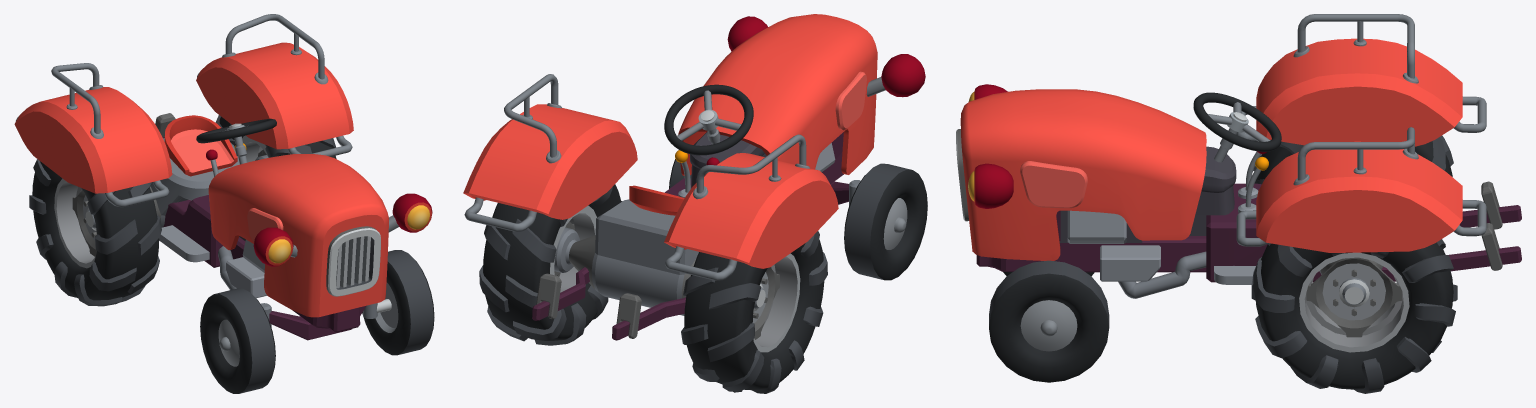
Rendered from Tractor_0_color_2.fbx.
The picture shows the model from 3 angles, left to right: view 1: azimuth 30°, elevation 25°; view 2: azimuth 150°, elevation 25°; view 3: azimuth 270°, elevation 25°; orthographic projection. The views are drawn at different scales.
Visible parts, largest first — view 1: Tractor_0_mesh, Tractor_0_Wheel_BR_mesh, Tractor_0_Wheel_FR_mesh, Tractor_0_Wheel_FL_mesh, Tractor_0_Wheel_BL_mesh; view 2: Tractor_0_mesh, Tractor_0_Wheel_BR_mesh, Tractor_0_Wheel_BL_mesh, Tractor_0_Wheel_FR_mesh; view 3: Tractor_0_mesh, Tractor_0_Wheel_BL_mesh, Tractor_0_Wheel_FL_mesh, Tractor_0_Wheel_BR_mesh.
Boxes of the visible parts, x1,y1,x2,y2 form: Tractor_0_mesh: [14, 14, 432, 340]; Tractor_0_Wheel_BR_mesh: [29, 159, 161, 306]; Tractor_0_Wheel_FR_mesh: [200, 288, 275, 393]; Tractor_0_Wheel_FL_mesh: [362, 250, 434, 355]; Tractor_0_Wheel_BL_mesh: [215, 115, 336, 162]; Tractor_0_mesh: [463, 14, 925, 340]; Tractor_0_Wheel_BR_mesh: [681, 231, 827, 393]; Tractor_0_Wheel_BL_mesh: [479, 184, 622, 345]; Tractor_0_Wheel_FR_mesh: [844, 163, 927, 280]; Tractor_0_mesh: [956, 14, 1521, 298]; Tractor_0_Wheel_BL_mesh: [1251, 239, 1457, 393]; Tractor_0_Wheel_FL_mesh: [989, 260, 1109, 382]; Tractor_0_Wheel_BR_mesh: [1253, 135, 1453, 184].
Bounding box in the file's own units: 137 × 111 × 222.
